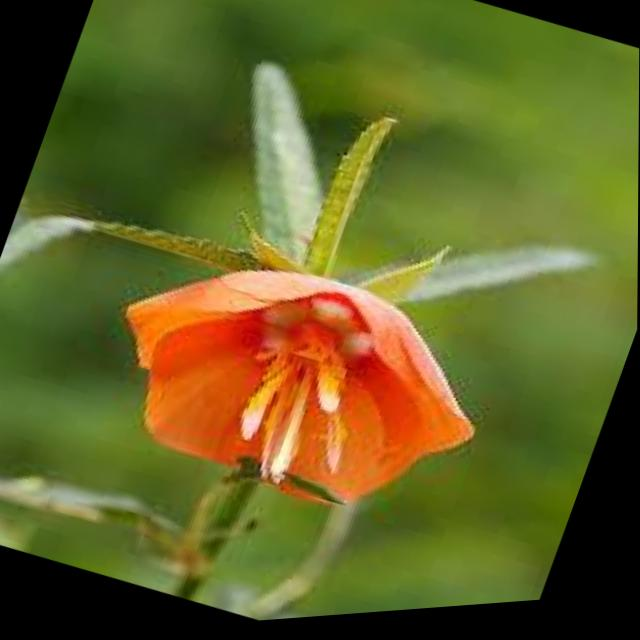Flower: (75, 210, 511, 560)
